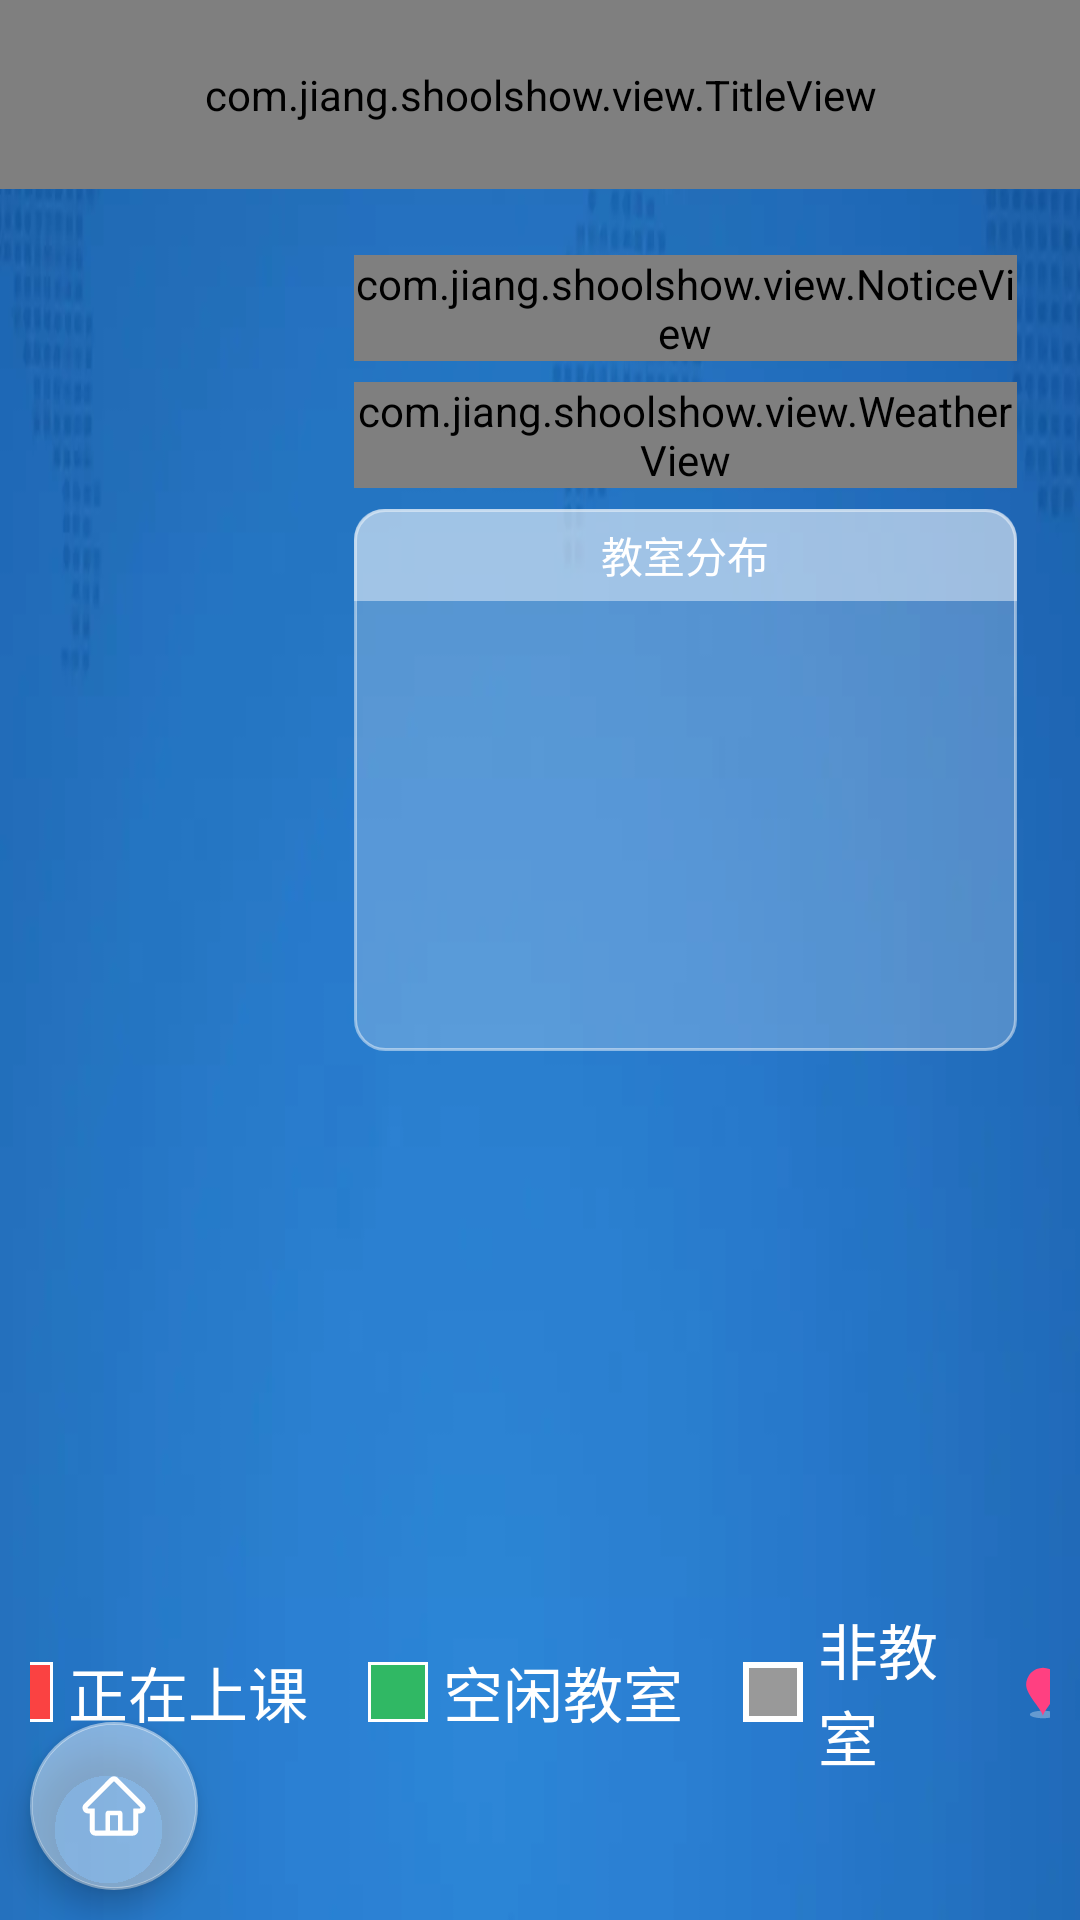

Icon bounding boxes for this 1080*1920 phone screenshot, format region(x1, y1, x2, y2):
home: region(30, 1722, 198, 1890)
position: region(1026, 1667, 1050, 1718)
